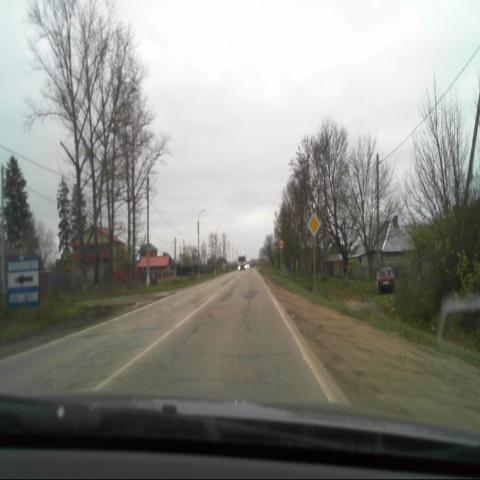8_3_2: (6, 272, 40, 291)
